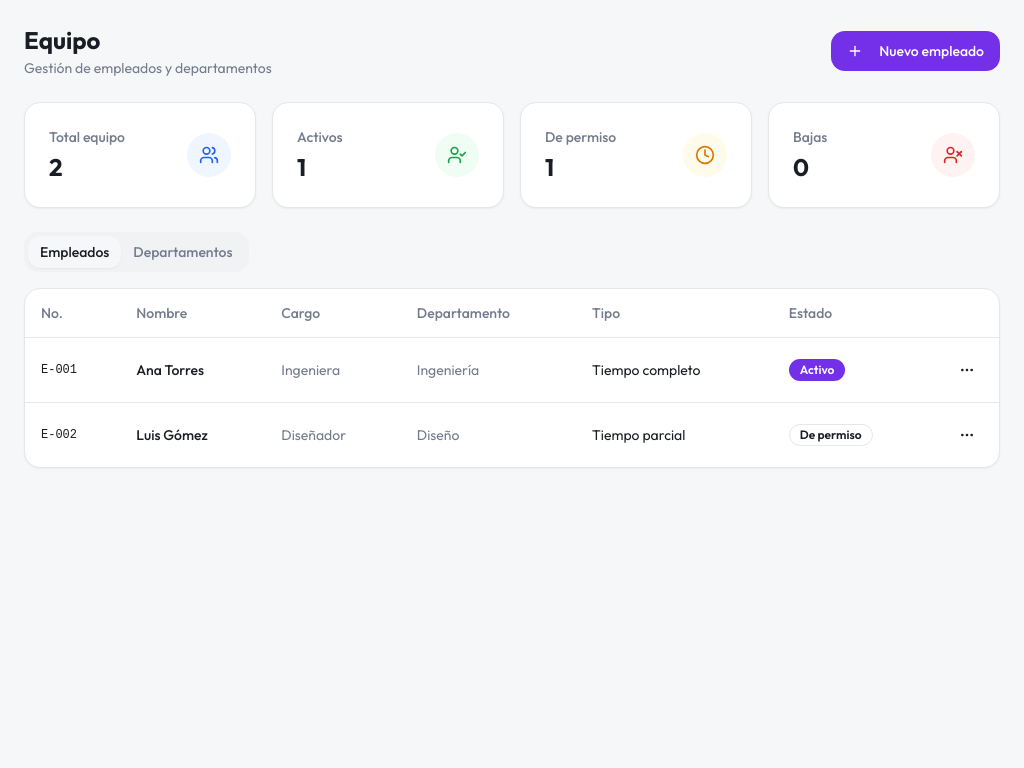
Scenario: HR, in Spanish › shows the employee detail with the start date formatted and the labels translated
Click the text "Ana Torres" at (193, 370), box [120,337,265,402]
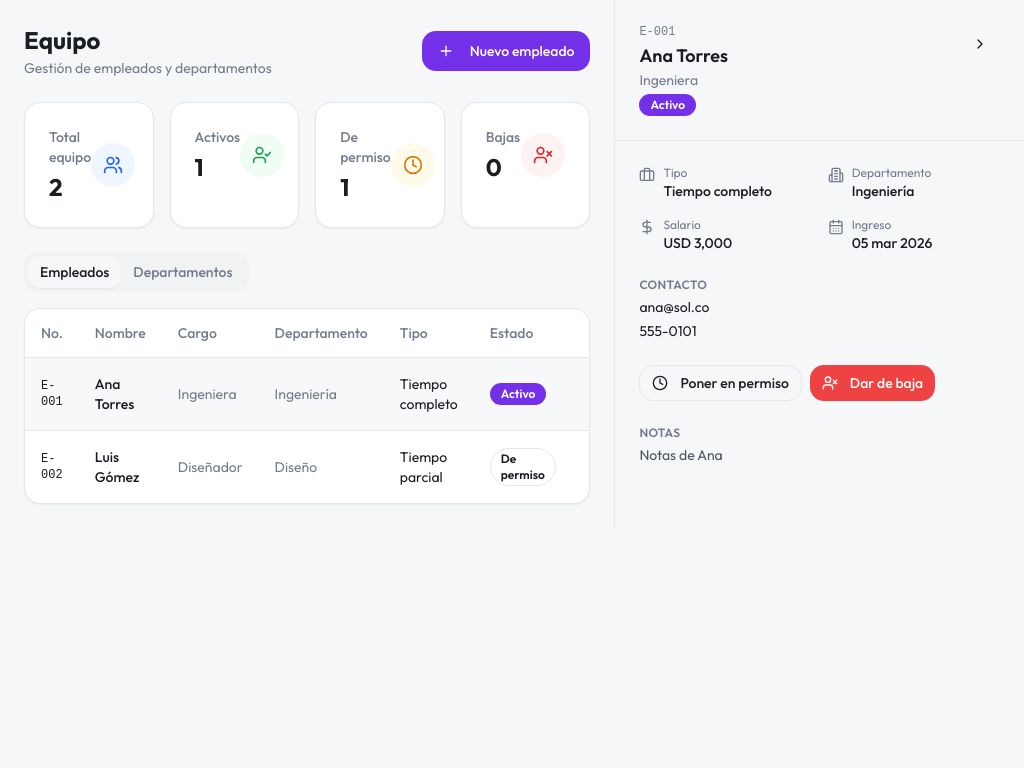
Result: the text "Ingreso" is shown at [852,217,891,232]
Result: the text "Contacto" is shown at [639,277,707,292]
Result: the text "Notas de Ana" is shown at [639,446,723,464]
